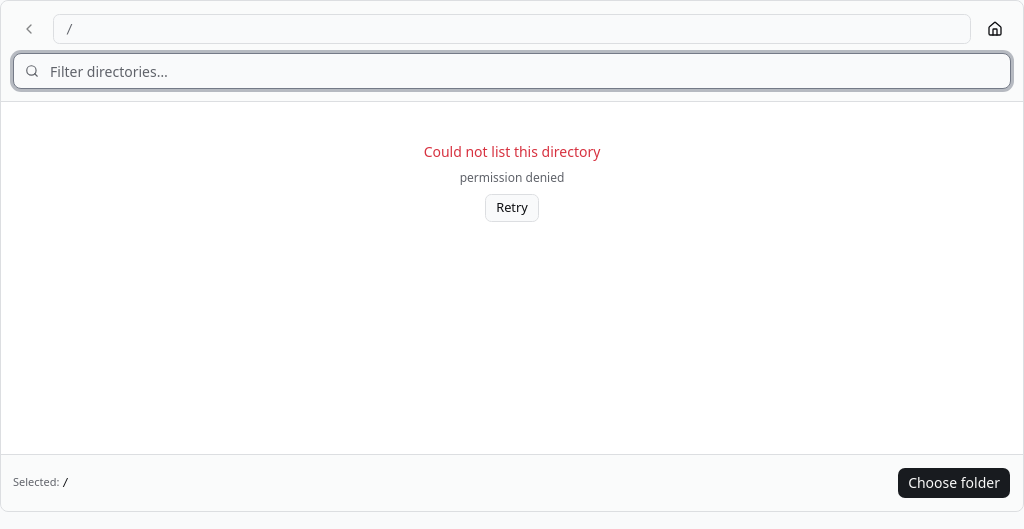
Test case: FileBrowser › shows the error state and retries the same path
Expected: the text "Could not list this directory" is shown, [424, 142, 600, 162]
Expected: the text "permission denied" is shown, [460, 170, 564, 186]
Click the button "Retry": (512, 208) [485, 194, 539, 222]
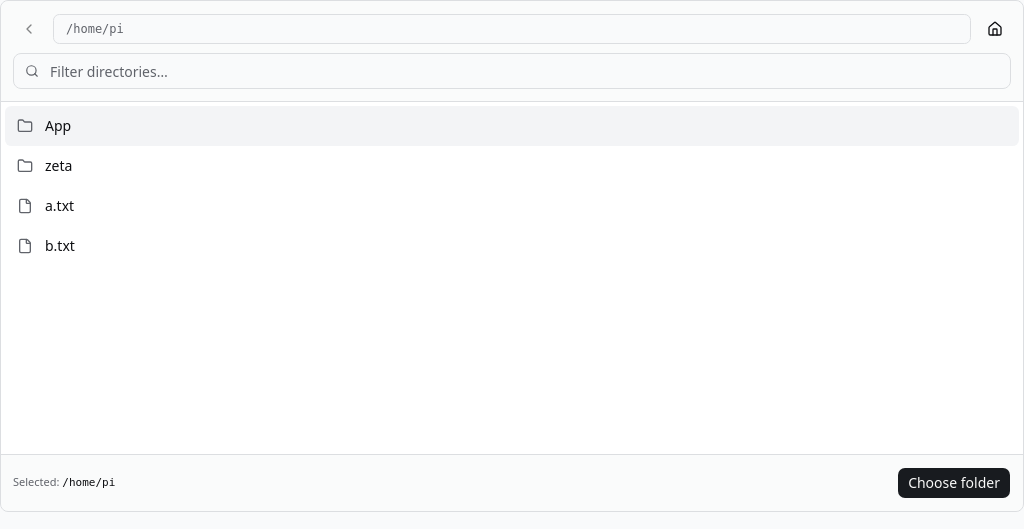
Expected: the text "App" is shown, [45, 116, 71, 136]
